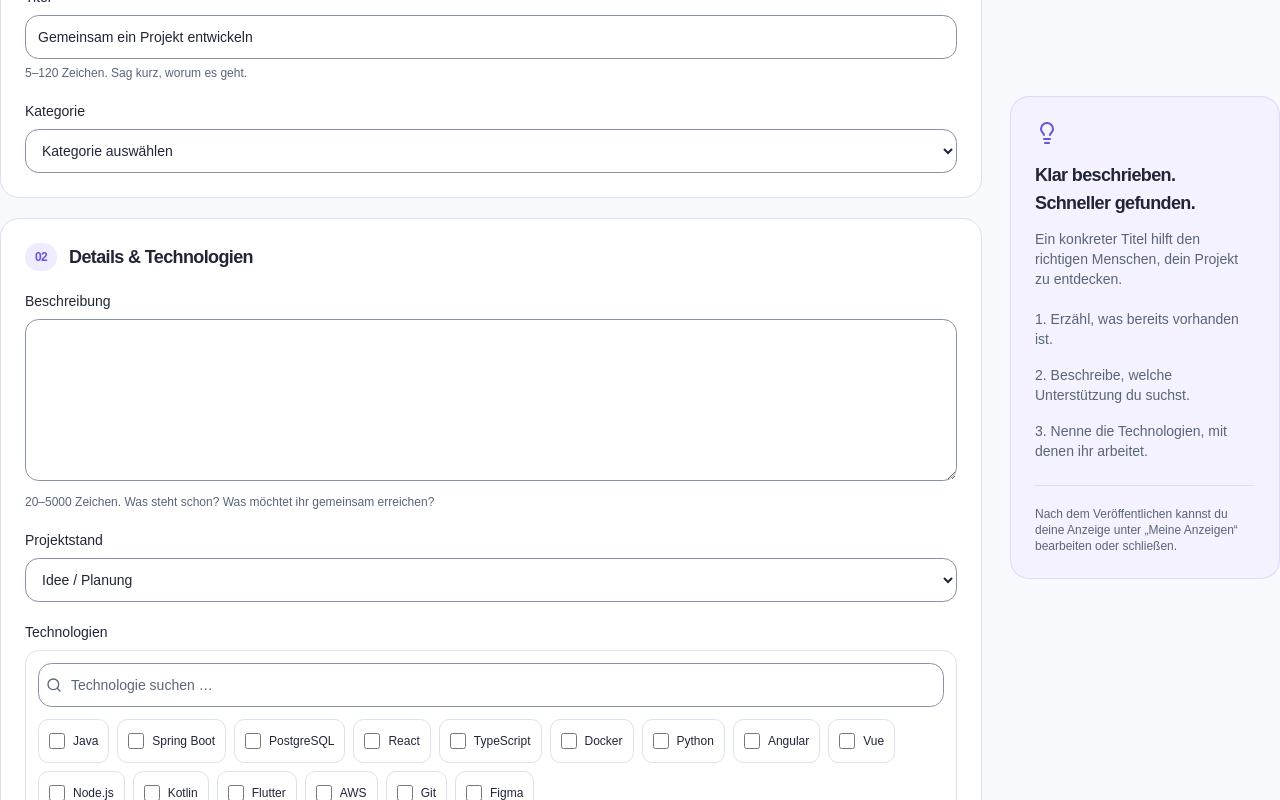
Scenario: Arbeitsweisen: Formulare und Anzeige › sendet ["VOR_ORT","HYBRID"] als Array über das Erstellformular
The width and height of the screenshot is (1280, 800).
Earlier steps of the test are not shown.
(page scrolled)
Type "Wir entwickeln eine barrierefreie Anwendung mit React." into the text box labelled "Beschreibung".
click(491, 400); type("Wir entwickeln eine barrierefreie Anwendung mit React.")  # box [25,319,957,481]
Select "Backend" in the dropdown labelled "Kategorie" at [491, 151], box [25,129,957,173]
Click the checkbox labelled "Java".
click(57, 741)  # box [49,733,65,749]
(page scrolled)
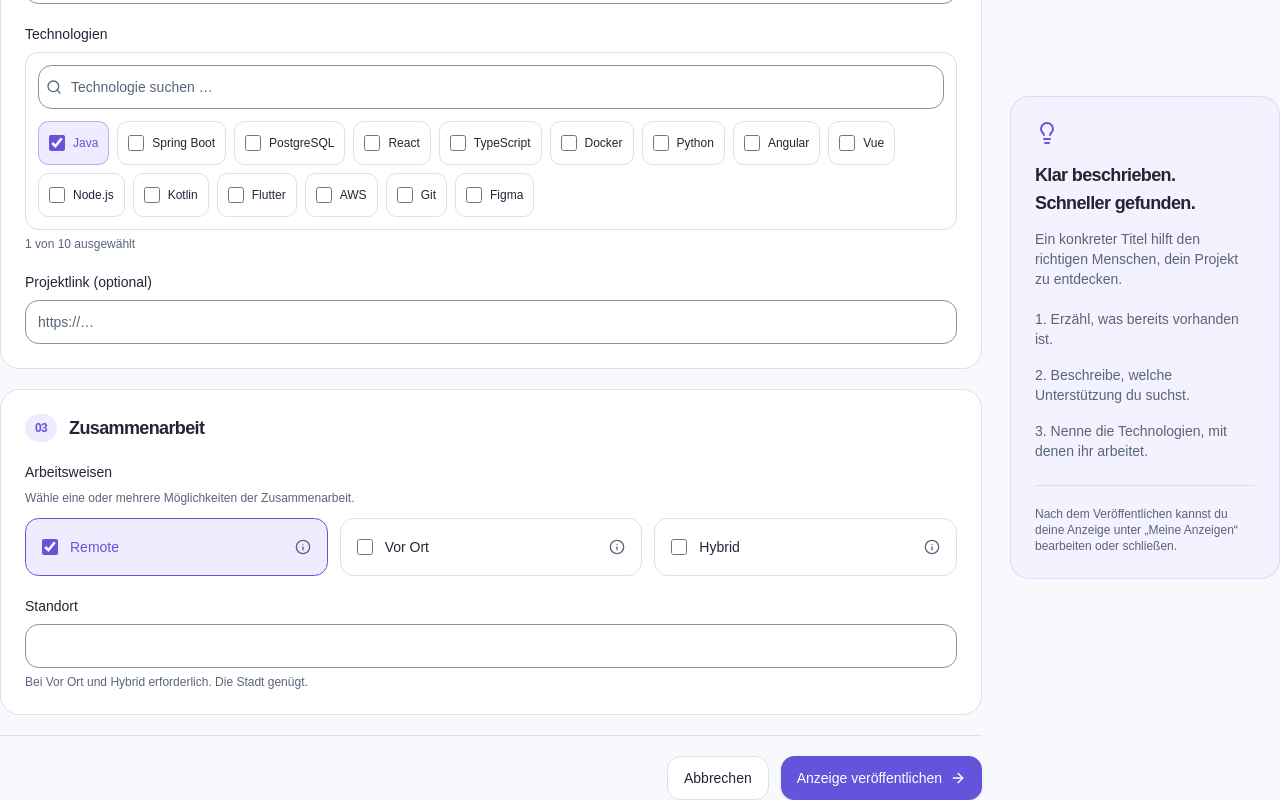
Click the checkbox labelled "Remote".
click(50, 547)  # box [42,539,58,555]
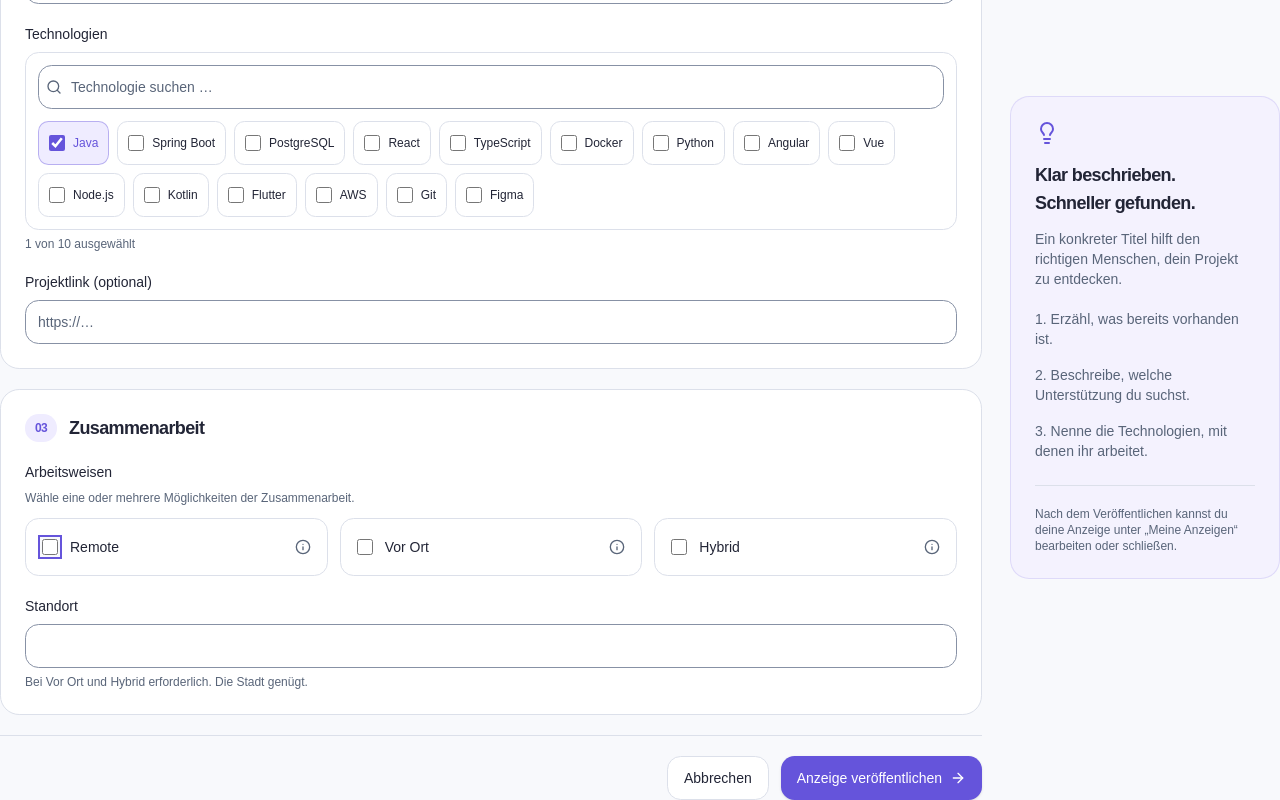
Click the checkbox labelled "Vor Ort".
click(365, 547)  # box [357,539,373,555]
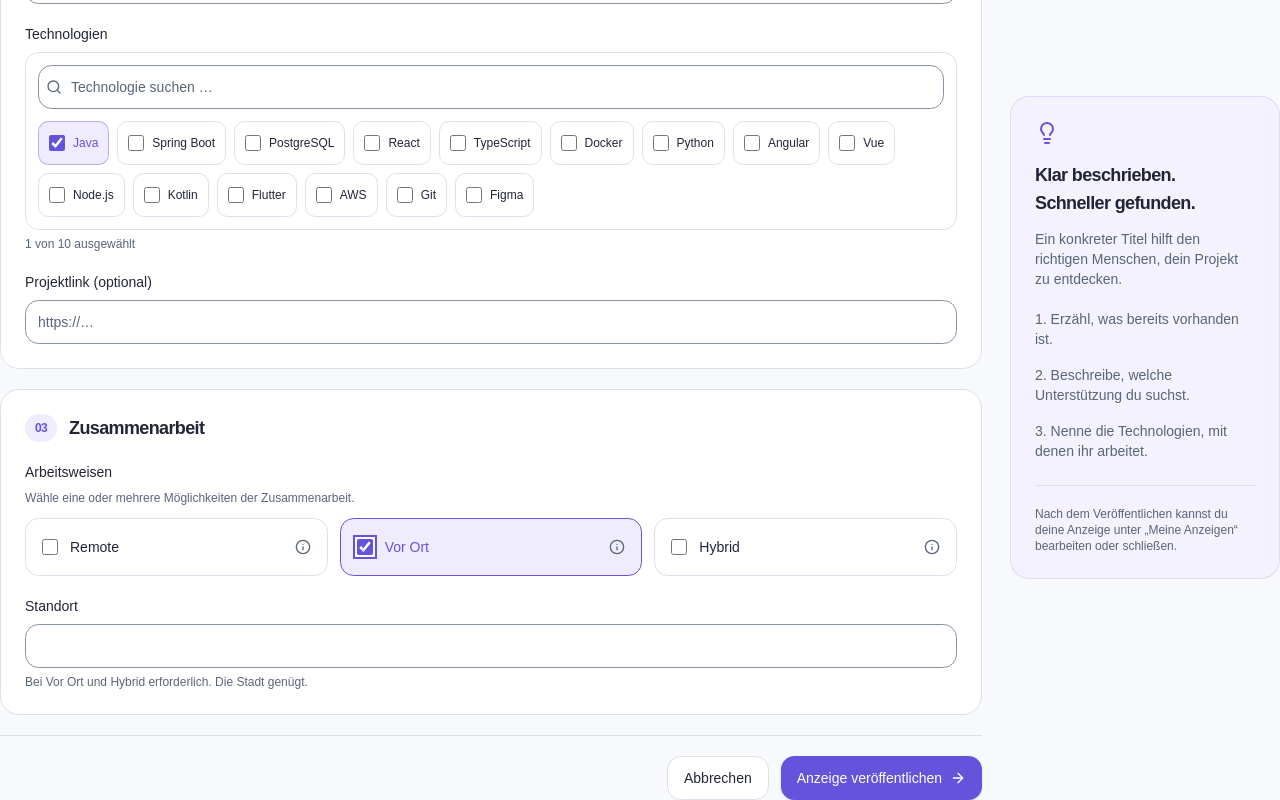
Click the checkbox labelled "Hybrid".
click(679, 547)  # box [671,539,687,555]
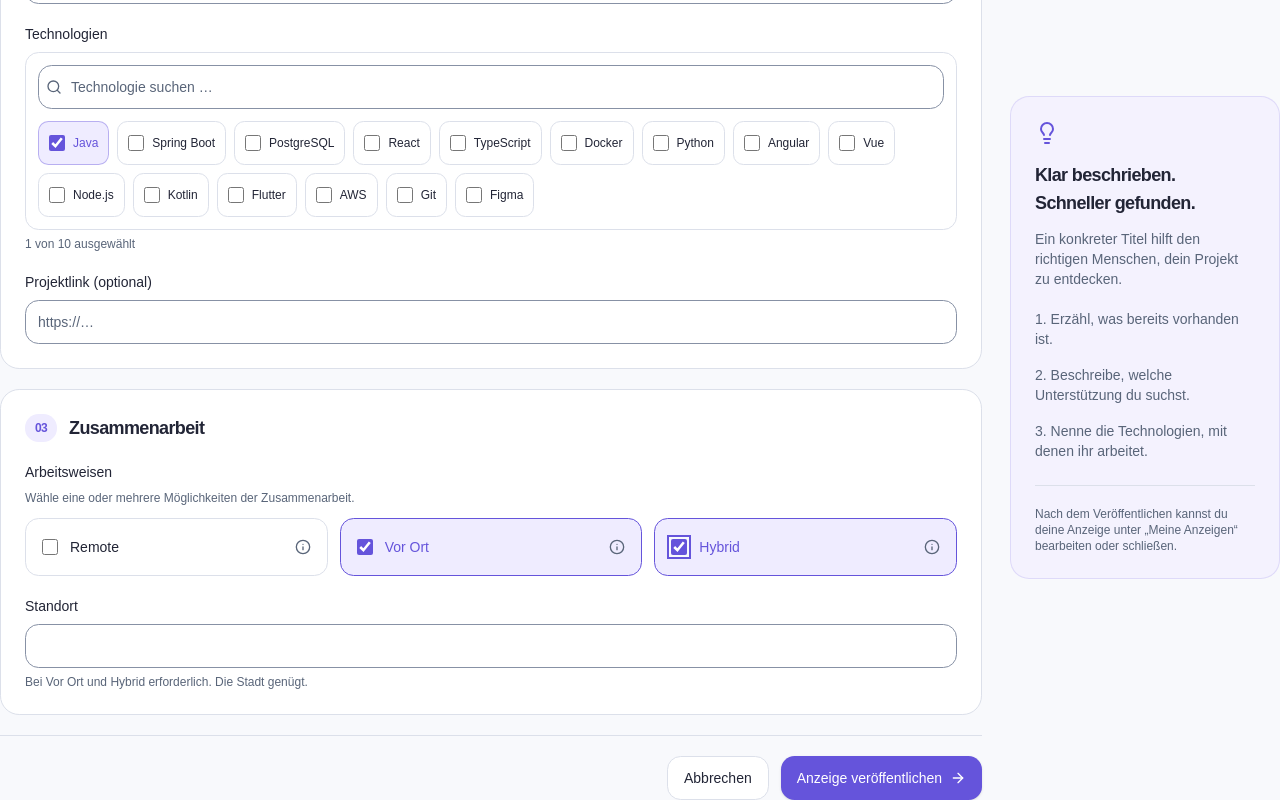
Type "Berlin" into the field labelled "Standort".
click(491, 646); type("Berlin")  # box [25,624,957,668]
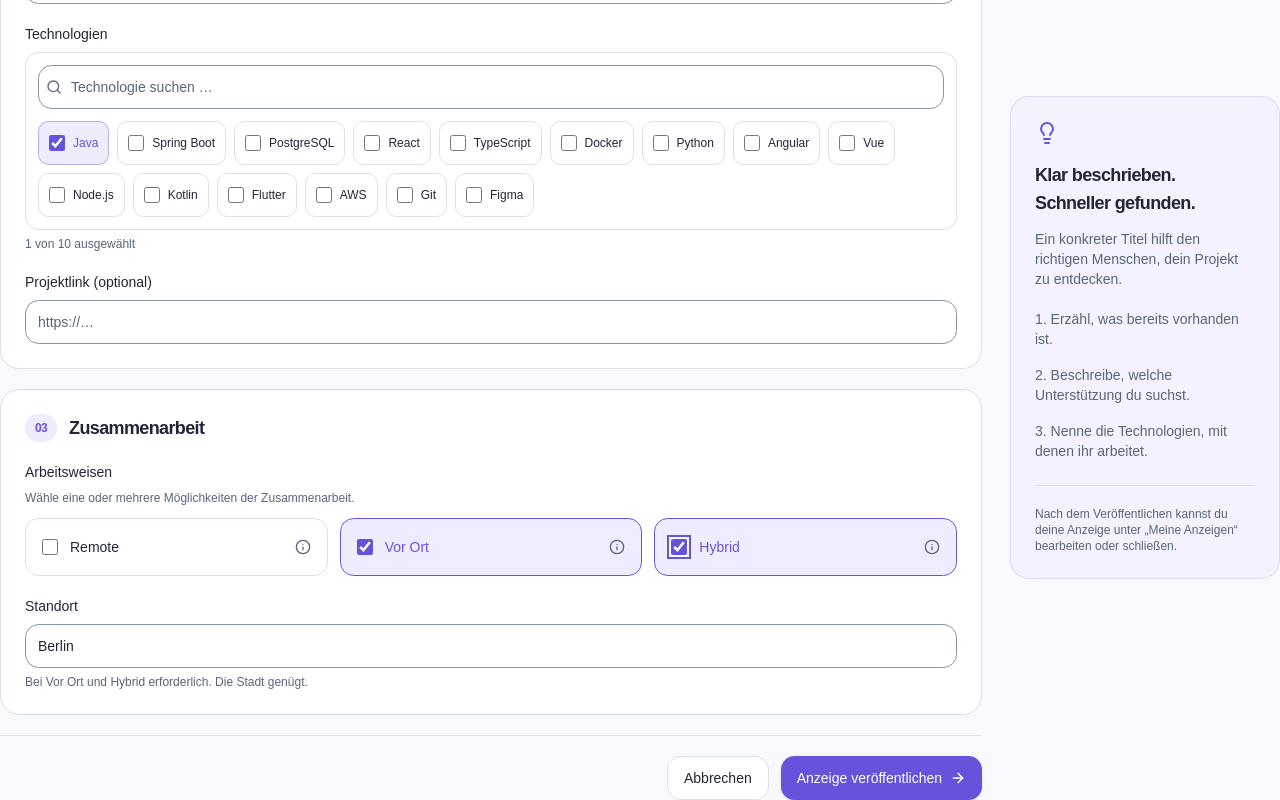
Click the button "Anzeige veröffentlichen".
click(881, 778)  # box [781,756,982,799]
(page scrolled)
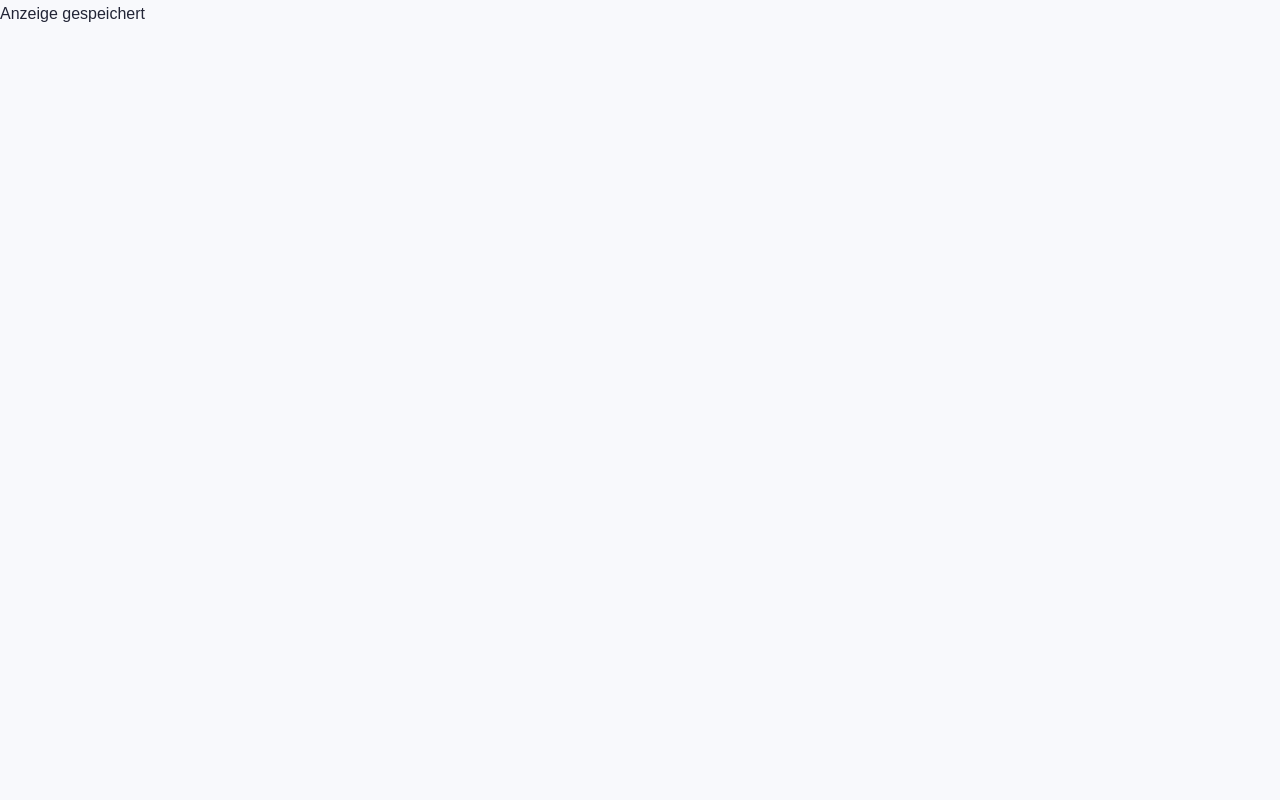
Result: the text "Anzeige gespeichert" is shown at [0,5,145,22]
